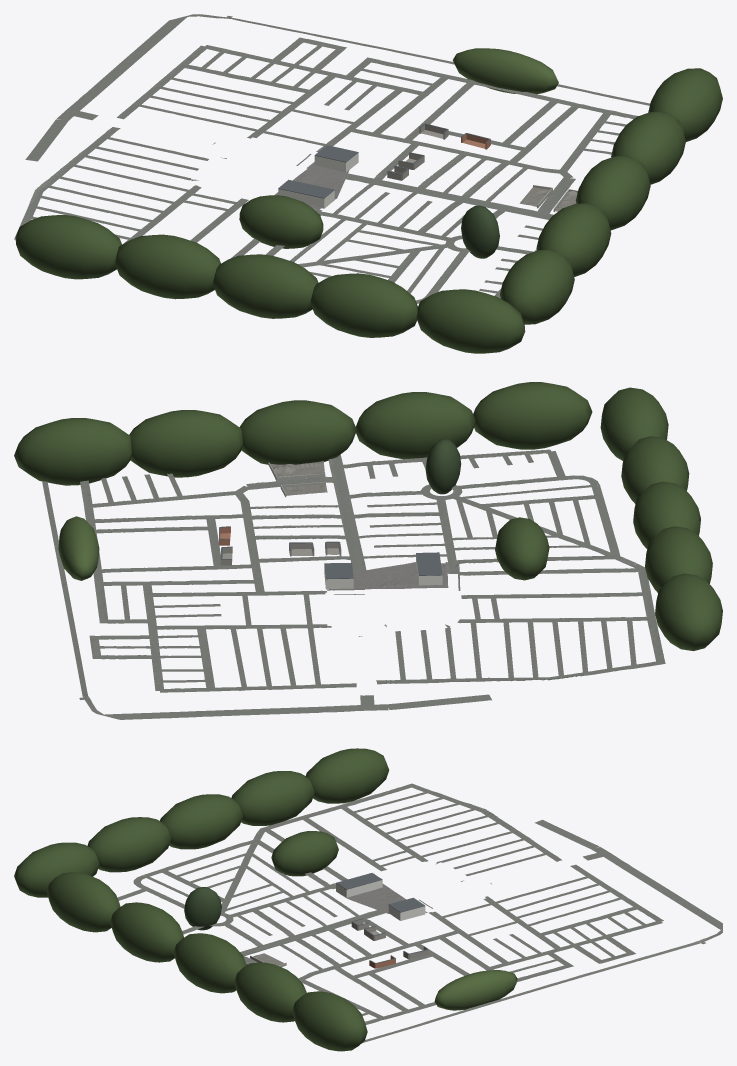
File: layout.glb
3 renders of one model, top to bottom at view 1: azimuth 30°, elevation 25°; view 2: azimuth 150°, elevation 25°; view 3: azimuth 270°, elevation 25°, orthographic. The views are drawn at different scales.
Parts seen in each view (by area): view 1: PROVISIONAL_spatial-main-paths, PROVISIONAL_canopy_woodland-west-4, PROVISIONAL_canopy_woodland-west-3, PROVISIONAL_canopy_woodland-west-0, PROVISIONAL_canopy_woodland-west-1, PROVISIONAL_canopy_woodland-west-2, PROVISIONAL_canopy_woodland-south-0, PROVISIONAL_canopy_woodland-south-2, PROVISIONAL_canopy_woodland-south-1, PROVISIONAL_canopy_west-mid-canopy, PROVISIONAL_canopy_woodland-south-4, PROVISIONAL_canopy_east-edge (+4 smaller); view 2: PROVISIONAL_spatial-main-paths, PROVISIONAL_canopy_woodland-south-0, PROVISIONAL_canopy_woodland-south-4, PROVISIONAL_canopy_woodland-south-3, PROVISIONAL_canopy_woodland-south-2, PROVISIONAL_canopy_woodland-south-1, PROVISIONAL_canopy_woodland-west-0, PROVISIONAL_canopy_woodland-west-4, PROVISIONAL_canopy_woodland-west-1, PROVISIONAL_canopy_woodland-west-3, PROVISIONAL_canopy_woodland-west-2, PROVISIONAL_canopy_west-mid-canopy (+5 smaller); view 3: PROVISIONAL_spatial-main-paths, PROVISIONAL_canopy_woodland-west-0, PROVISIONAL_canopy_woodland-west-3, PROVISIONAL_canopy_woodland-west-2, PROVISIONAL_canopy_woodland-south-4, PROVISIONAL_canopy_woodland-west-1, PROVISIONAL_canopy_woodland-south-1, PROVISIONAL_canopy_woodland-south-0, PROVISIONAL_canopy_woodland-south-2, PROVISIONAL_canopy_woodland-south-3, PROVISIONAL_canopy_woodland-west-4, PROVISIONAL_canopy_west-mid-canopy (+3 smaller).
Boxes of the visible parts, x1=… form: PROVISIONAL_spatial-main-paths: x1=14, y1=14, x2=649, y2=303; PROVISIONAL_canopy_woodland-west-4: x1=416, y1=289, x2=525, y2=353; PROVISIONAL_canopy_woodland-west-3: x1=310, y1=273, x2=417, y2=337; PROVISIONAL_canopy_woodland-west-0: x1=15, y1=215, x2=121, y2=279; PROVISIONAL_canopy_woodland-west-1: x1=115, y1=234, x2=220, y2=299; PROVISIONAL_canopy_woodland-west-2: x1=213, y1=254, x2=318, y2=318; PROVISIONAL_canopy_woodland-south-0: x1=500, y1=249, x2=574, y2=324; PROVISIONAL_canopy_woodland-south-2: x1=575, y1=155, x2=650, y2=230; PROVISIONAL_canopy_woodland-south-1: x1=536, y1=203, x2=611, y2=276; PROVISIONAL_canopy_west-mid-canopy: x1=239, y1=195, x2=323, y2=248; PROVISIONAL_canopy_woodland-south-4: x1=648, y1=68, x2=722, y2=141; PROVISIONAL_canopy_east-edge: x1=452, y1=48, x2=558, y2=94; PROVISIONAL_spatial-main-paths: x1=42, y1=449, x2=665, y2=719; PROVISIONAL_canopy_woodland-south-0: x1=473, y1=382, x2=592, y2=449; PROVISIONAL_canopy_woodland-south-4: x1=14, y1=418, x2=131, y2=485; PROVISIONAL_canopy_woodland-south-3: x1=129, y1=410, x2=242, y2=477; PROVISIONAL_canopy_woodland-south-2: x1=239, y1=400, x2=356, y2=464; PROVISIONAL_canopy_woodland-south-1: x1=356, y1=392, x2=475, y2=459; PROVISIONAL_canopy_woodland-west-0: x1=655, y1=573, x2=722, y2=650; PROVISIONAL_canopy_woodland-west-4: x1=600, y1=387, x2=668, y2=460; PROVISIONAL_canopy_woodland-west-1: x1=645, y1=526, x2=712, y2=592; PROVISIONAL_canopy_woodland-west-3: x1=621, y1=436, x2=689, y2=503; PROVISIONAL_canopy_woodland-west-2: x1=633, y1=481, x2=700, y2=548; PROVISIONAL_canopy_west-mid-canopy: x1=495, y1=517, x2=549, y2=580; PROVISIONAL_spatial-main-paths: x1=117, y1=783, x2=722, y2=1043; PROVISIONAL_canopy_woodland-west-0: x1=306, y1=748, x2=389, y2=803; PROVISIONAL_canopy_woodland-west-3: x1=87, y1=817, x2=171, y2=872; PROVISIONAL_canopy_woodland-west-2: x1=160, y1=794, x2=242, y2=849; PROVISIONAL_canopy_woodland-south-4: x1=292, y1=991, x2=367, y2=1051; PROVISIONAL_canopy_woodland-west-1: x1=231, y1=771, x2=314, y2=825; PROVISIONAL_canopy_woodland-south-1: x1=110, y1=902, x2=183, y2=962; PROVISIONAL_canopy_woodland-south-0: x1=46, y1=872, x2=120, y2=932; PROVISIONAL_canopy_woodland-south-2: x1=173, y1=933, x2=246, y2=993; PROVISIONAL_canopy_woodland-south-3: x1=234, y1=962, x2=306, y2=1022; PROVISIONAL_canopy_woodland-west-4: x1=14, y1=842, x2=99, y2=897; PROVISIONAL_canopy_west-mid-canopy: x1=271, y1=831, x2=338, y2=876.
Bounding box in the file's own units: 239 × 20.43 × 257.
Materials: 11 (1 with a texture image).
